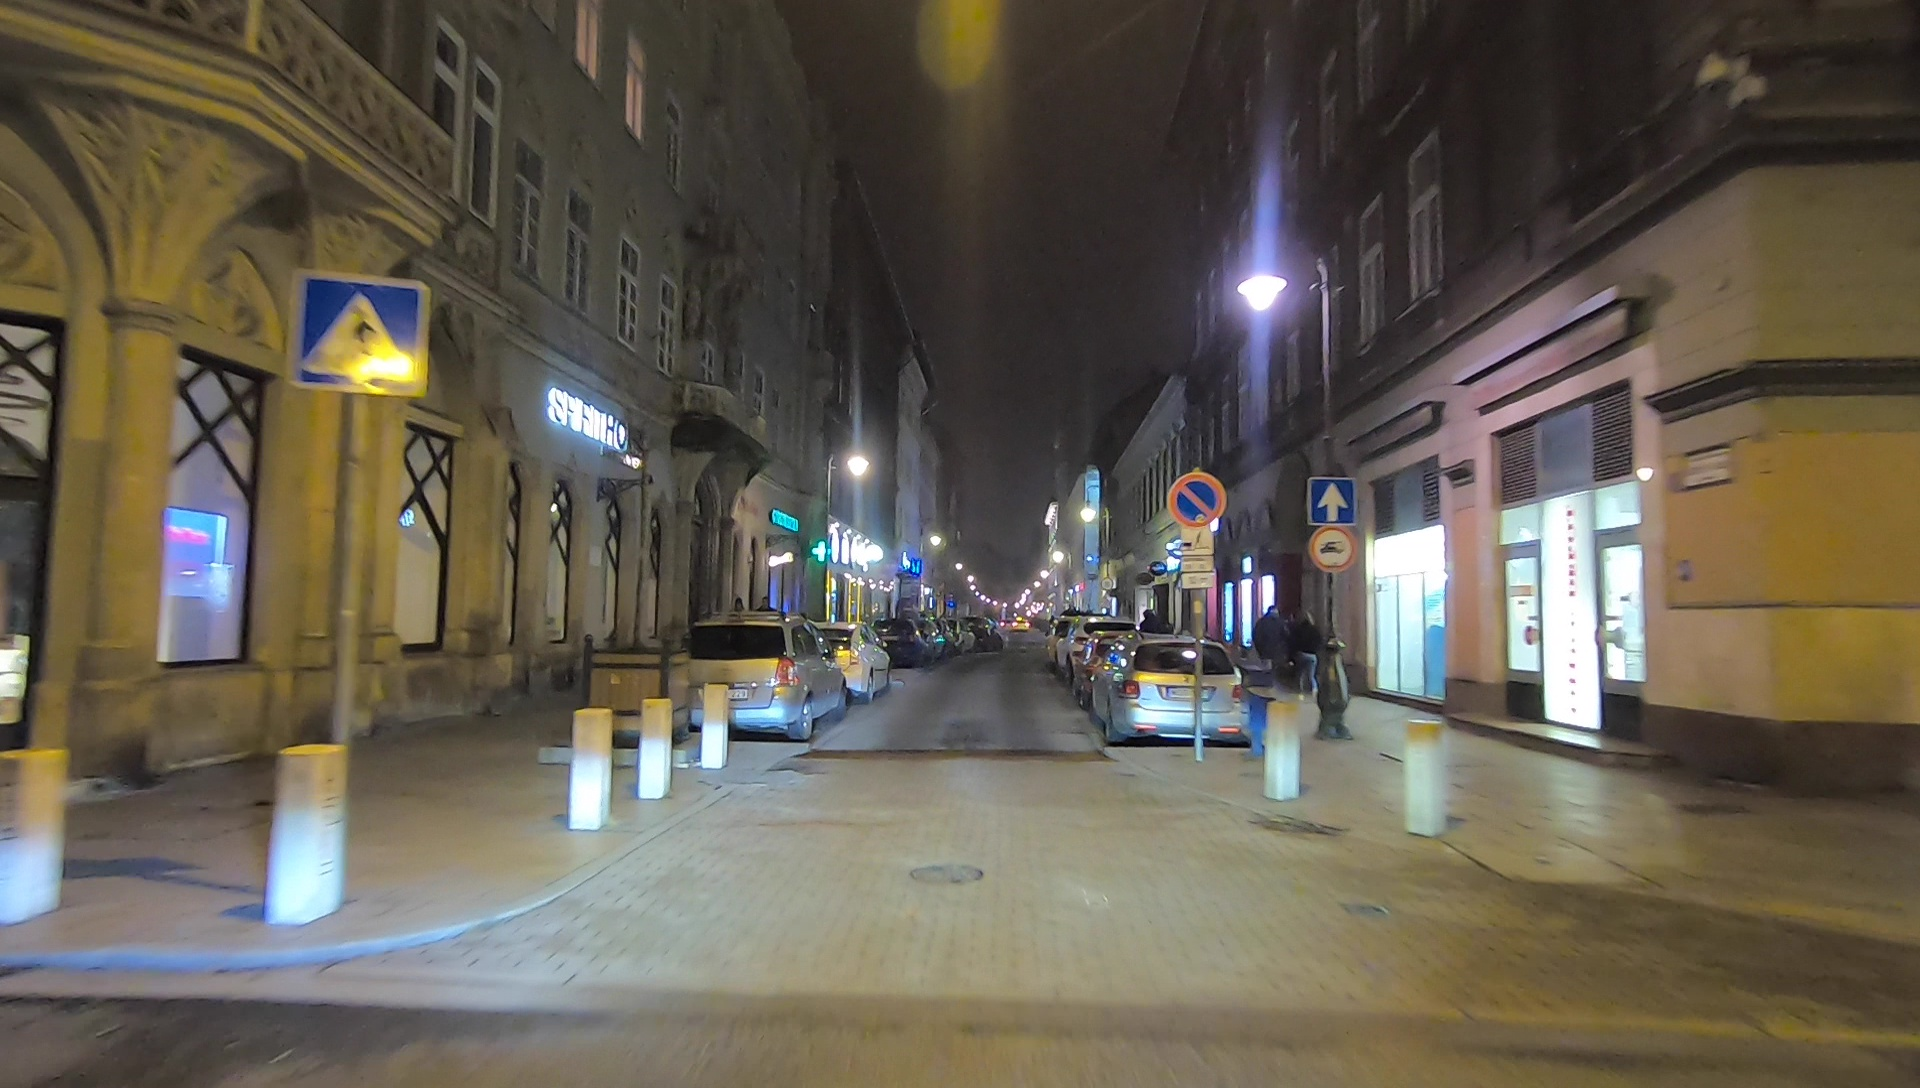person: (1291, 611, 1325, 710), (1256, 600, 1284, 695)
